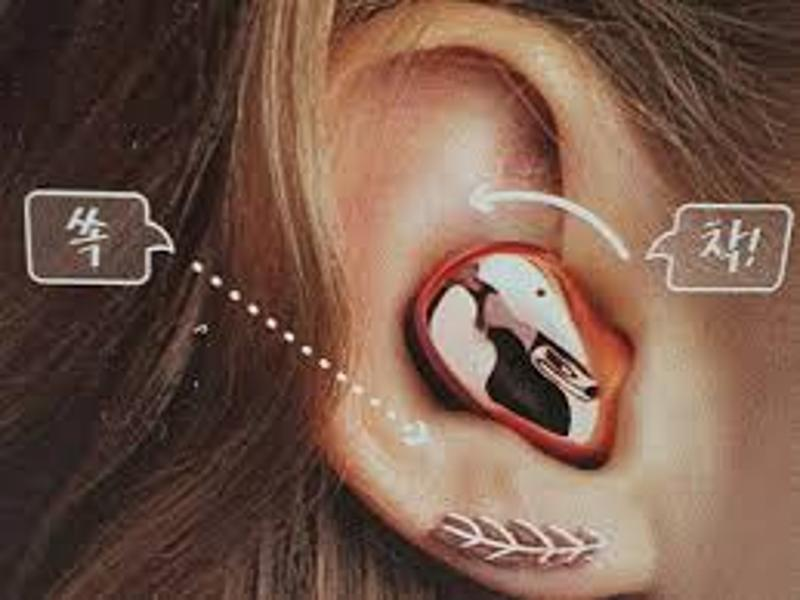headphone: (397, 238, 634, 461)
